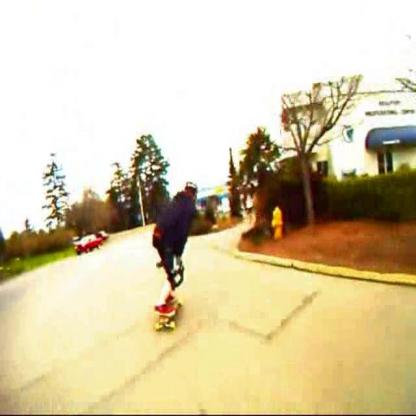other: (147, 281, 182, 339), (258, 198, 290, 248), (68, 228, 112, 259)
